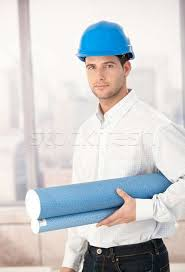Person_wearing_helmet: (75, 12, 136, 82)
